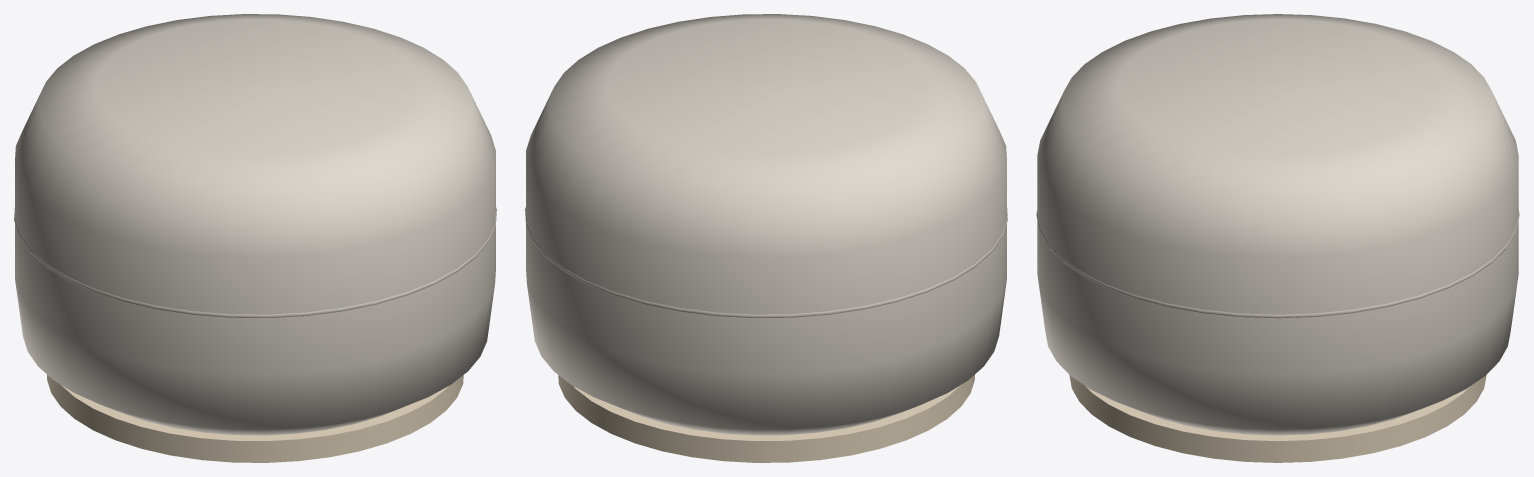
File: mo_ottoman.glb
3 views of the same model, side by side, from view 1: azimuth 30°, elevation 25°; view 2: azimuth 150°, elevation 25°; view 3: azimuth 270°, elevation 25° (orthographic).
Parts seen in each view (by area): view 1: pouf, disc, seam; view 2: pouf, disc, seam; view 3: pouf, disc, seam.
Part boxes in pixels (x1,y1,x2,y2): pouf: [15, 14, 495, 435]; disc: [47, 375, 463, 462]; seam: [14, 207, 496, 317]; pouf: [526, 14, 1006, 435]; disc: [558, 375, 974, 462]; seam: [525, 207, 1007, 317]; pouf: [1037, 14, 1518, 435]; disc: [1069, 375, 1486, 462]; seam: [1036, 210, 1519, 318].
Bounding box in the file's own units: 0.602 × 0.4 × 0.602.
